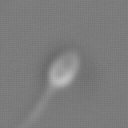normal: (14, 86, 54, 128)
